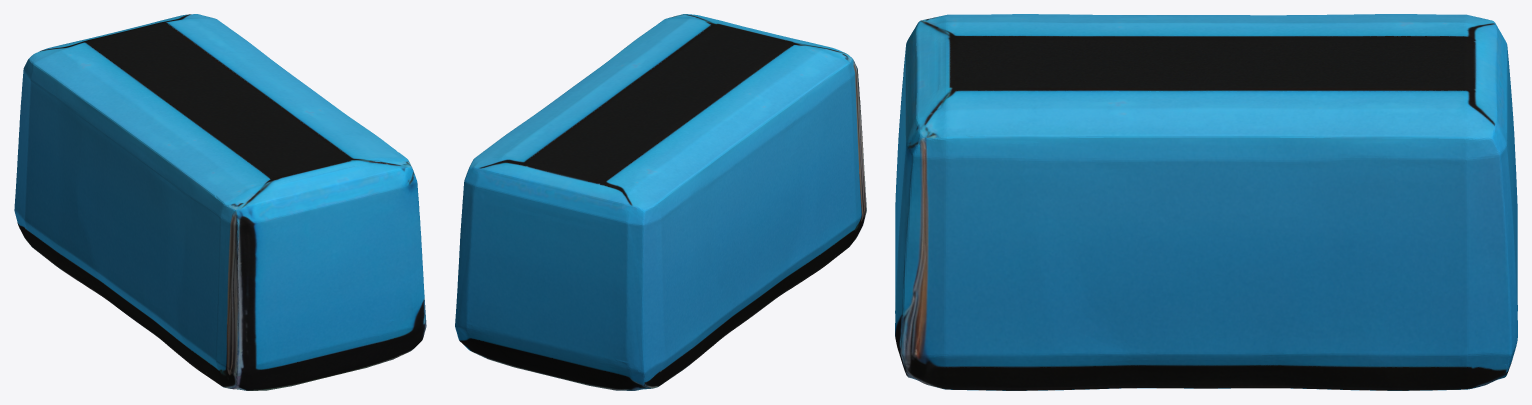
Rendered from image_0002_segmented.glb.
The picture shows the model from 3 angles, left to right: view 1: azimuth 30°, elevation 25°; view 2: azimuth 150°, elevation 25°; view 3: azimuth 270°, elevation 25°; orthographic projection. The views are drawn at different scales.
Visible parts, largest first — view 1: tmp2a_jb6b1.ply; view 2: tmp2a_jb6b1.ply; view 3: tmp2a_jb6b1.ply.
Part boxes in pixels (box(x1,y1,x2,y2)): tmp2a_jb6b1.ply: box(14, 14, 426, 390); tmp2a_jb6b1.ply: box(455, 14, 866, 390); tmp2a_jb6b1.ply: box(895, 14, 1517, 390).
Bounding box in the file's own units: 1.01 × 0.9812 × 1.99.
1 material, 1 textured.
